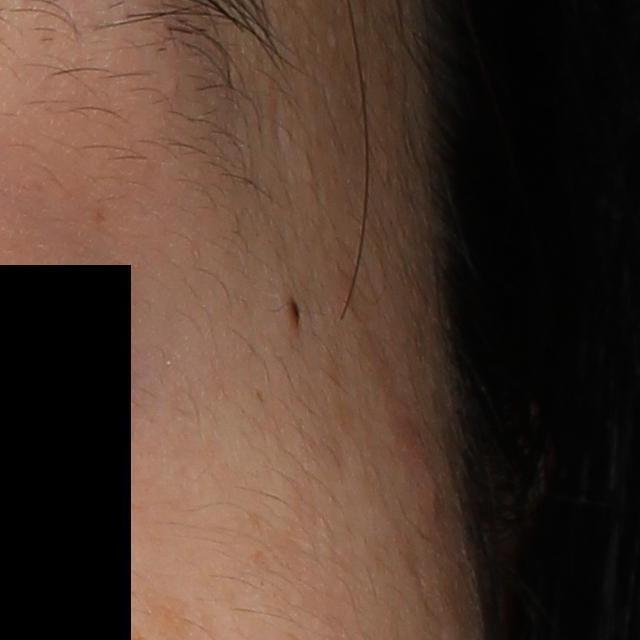nevus: (282, 288, 304, 331)
